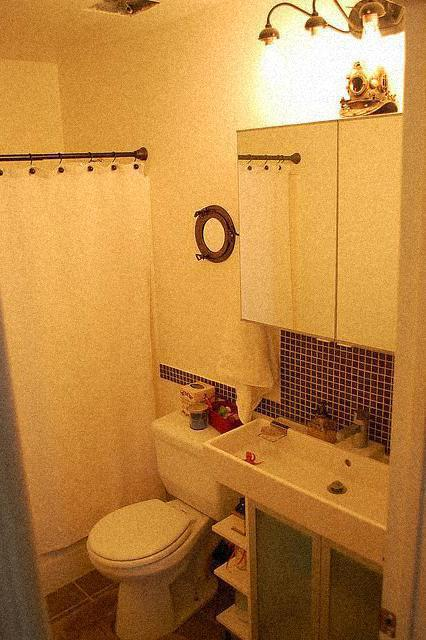Ducha: (0, 142, 147, 607)
Lavamanos: (218, 392, 425, 570)
Sanitario: (93, 396, 262, 639)
